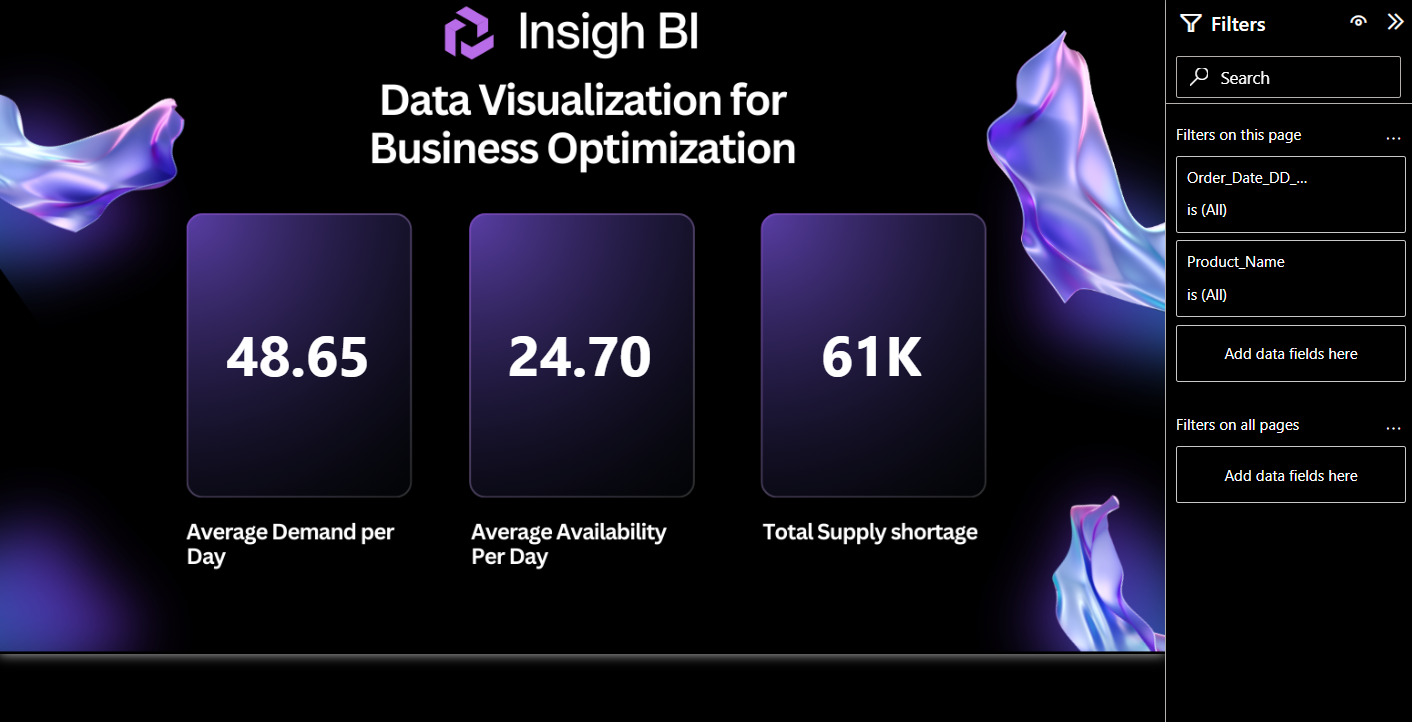

Layout of this report page (visuals, bound fields, positions):
{"tool":"powerbi","page":{"name":"overview_dashboard","canvas":[1280,720],"ordinal":0},"visuals":[{"type":"cardVisual","fields":{"Data":["MEasures Table.Average Demand Per Day"]},"box":[215.4,285.4,226.4,203.1],"z":0},{"type":"cardVisual","fields":{"Data":["MEasures Table.Average Availability Per Day"]},"box":[522.8,285.4,229.2,203.1],"z":1000},{"type":"cardVisual","fields":{"Data":["MEasures Table.Total Supply Shortage"]},"box":[849.4,285.4,216.8,203.1],"z":2000}]}

Visuals, with their boxes on the page's 1280x720 design canvas (x1, y1, x2, y2). These are canvas units, not pixel positions in the 1412x722 screenshot, which may show the page scaled, cropped or inside an application window:
cardVisual - MEasures Table.Average Demand Per Day: 215 285 442 488
cardVisual - MEasures Table.Average Availability Per Day: 523 285 752 488
cardVisual - MEasures Table.Total Supply Shortage: 849 285 1066 488
